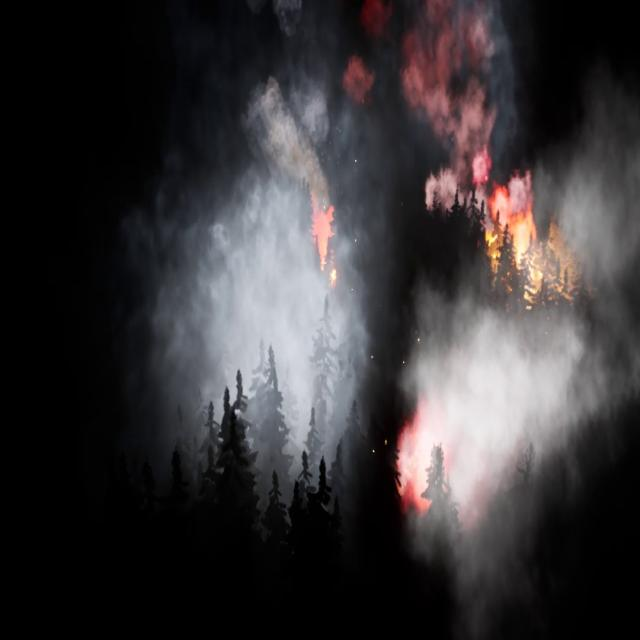fire: (484, 191, 546, 280), (308, 191, 341, 282)
smoke: (392, 0, 638, 634), (156, 1, 392, 493)
